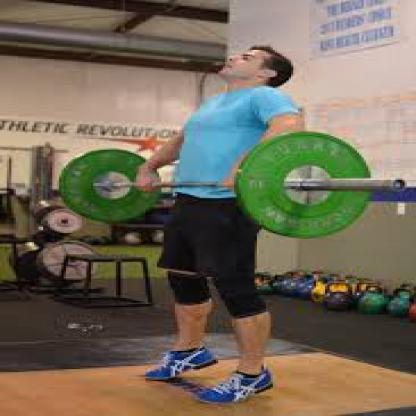barbell: (59, 132, 407, 238)
